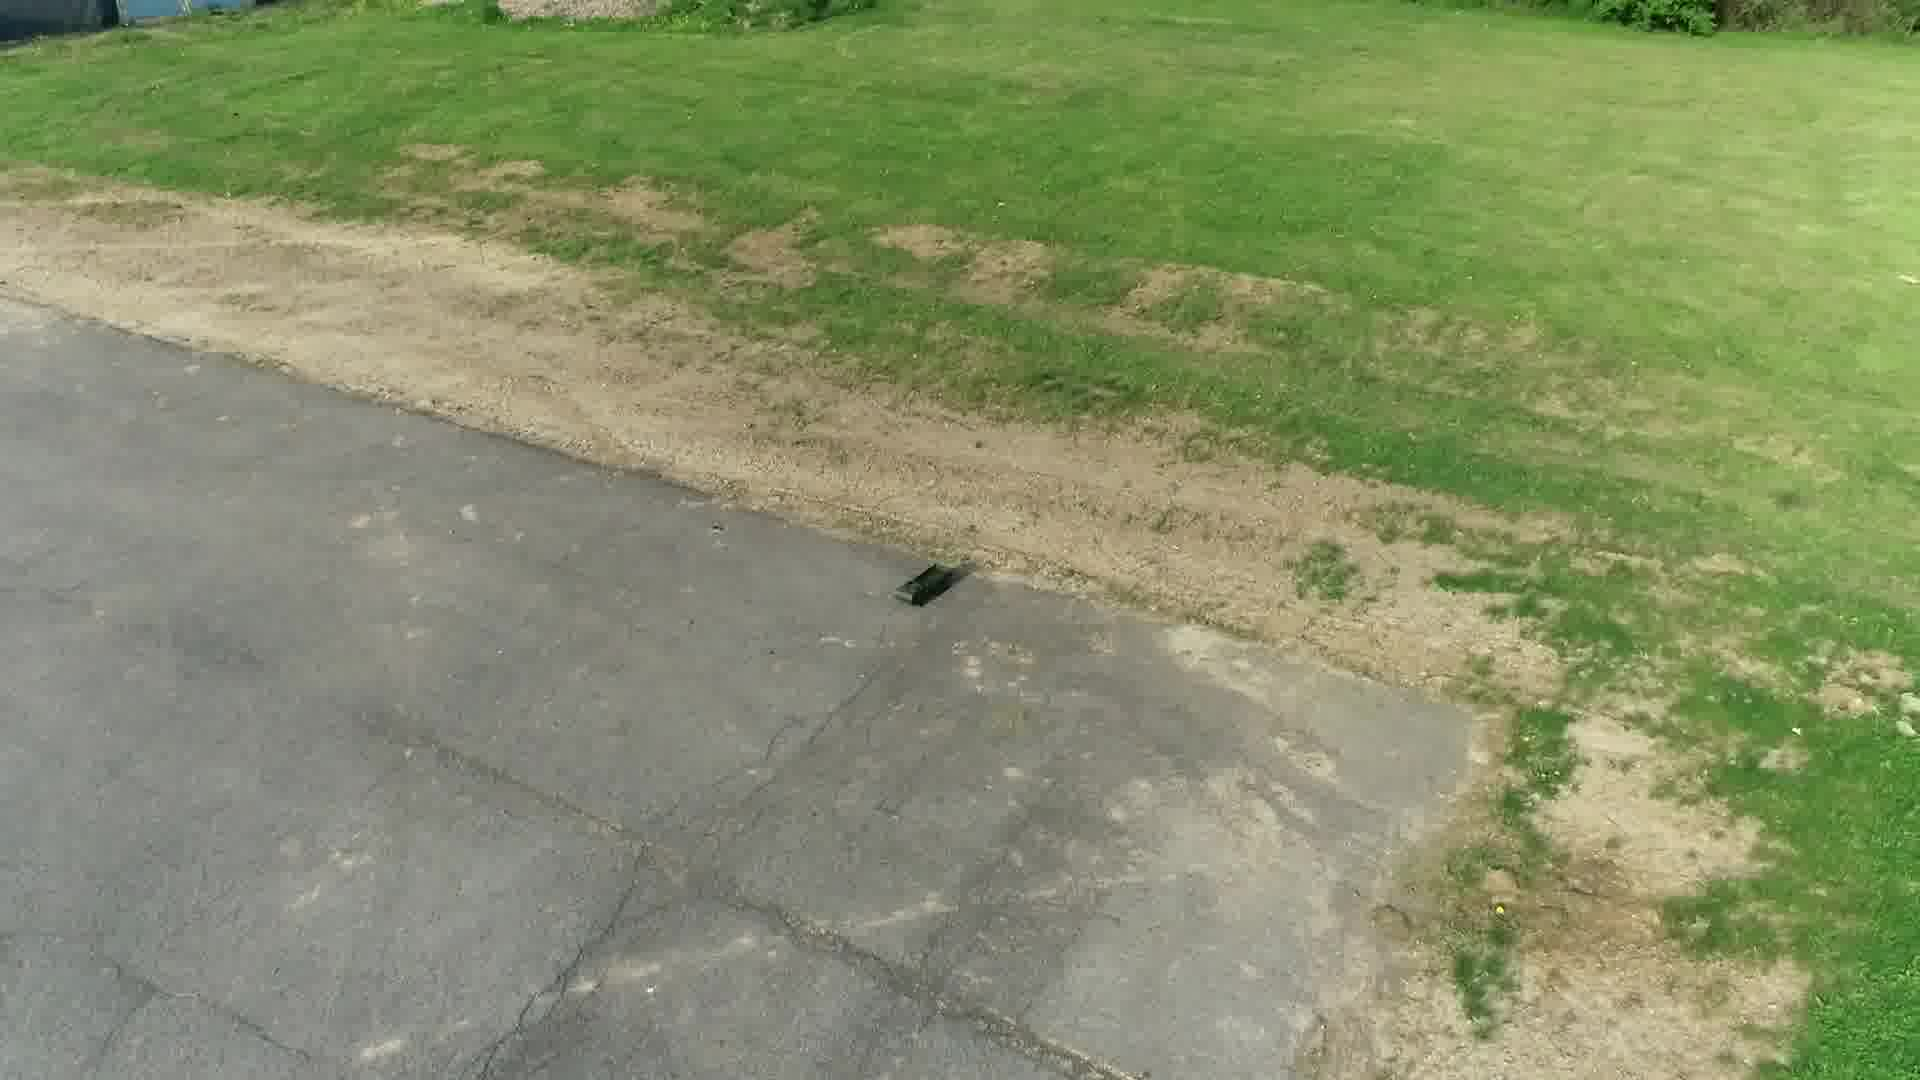transporter9: (889, 556, 956, 608)
